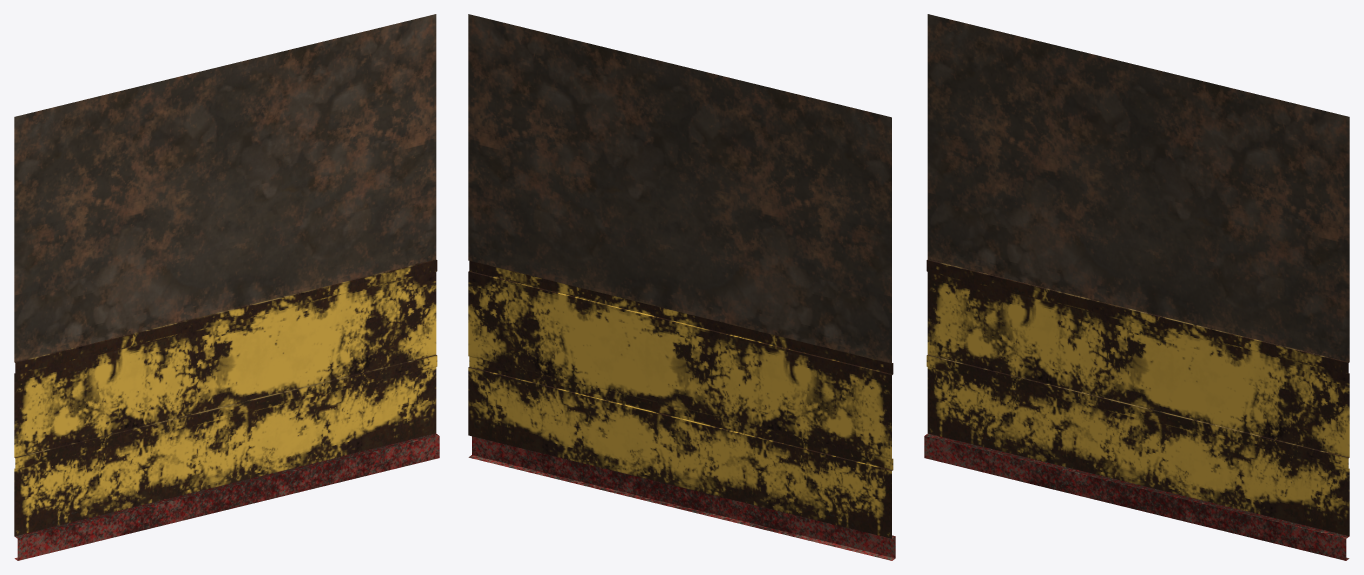
File: wall.fbx
3 renders of one model, left to right at view 1: azimuth 30°, elevation 25°; view 2: azimuth 150°, elevation 25°; view 3: azimuth 330°, elevation 25°, orthographic.
Parts seen in each view (by area): view 1: Plane.006; view 2: Plane.006; view 3: Plane.006.
Boxes of the visible parts, <box> form: Plane.006: <box>14,14,439,560</box>; Plane.006: <box>468,14,895,560</box>; Plane.006: <box>924,14,1349,560</box>.
Size of the model in its own units: 400 by 400 by 5.77.
1 material, 1 textured.
